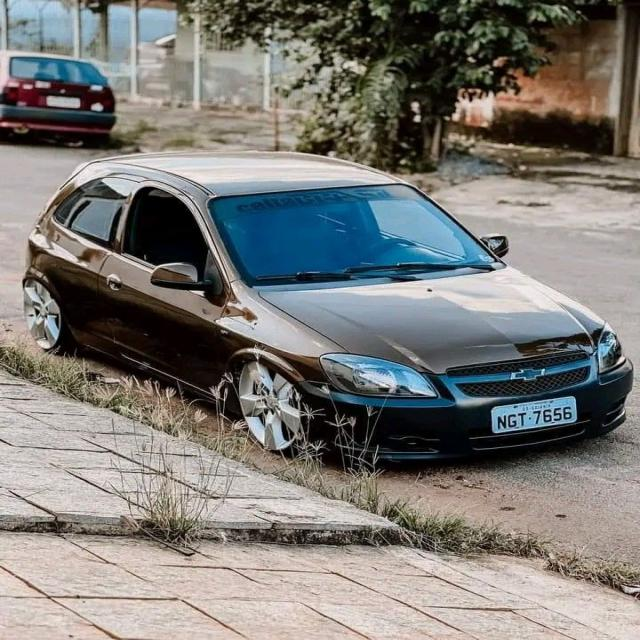Placas: (475, 392, 588, 439)
